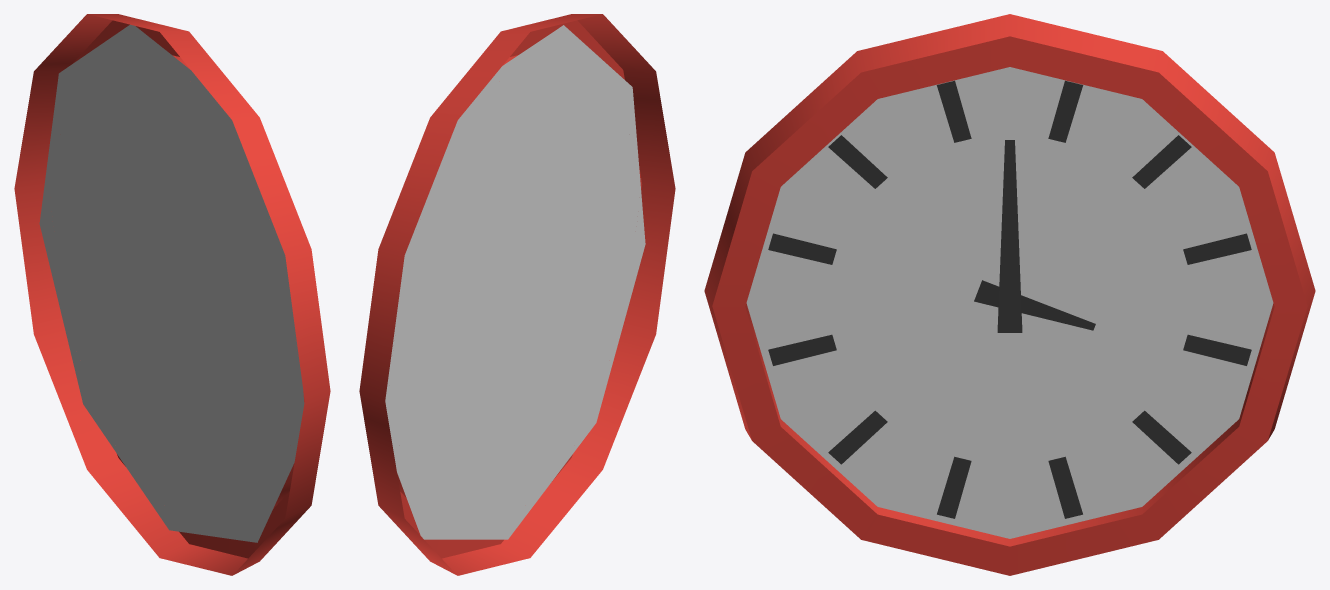
The model's file is clock.fbx.
The picture shows the model from 3 angles, left to right: view 1: azimuth 30°, elevation 25°; view 2: azimuth 150°, elevation 25°; view 3: azimuth 270°, elevation 25°; orthographic projection. The views are drawn at different scales.
Parts seen in each view (by area): view 1: clock; view 2: clock; view 3: clock.
Boxes of the visible parts, x1,y1,x2,y2 form: clock: (14,14,330,575); clock: (359,14,675,575); clock: (704,14,1315,575).
Size of the model in its own units: 0.0275 by 0.4493 by 0.4493.
